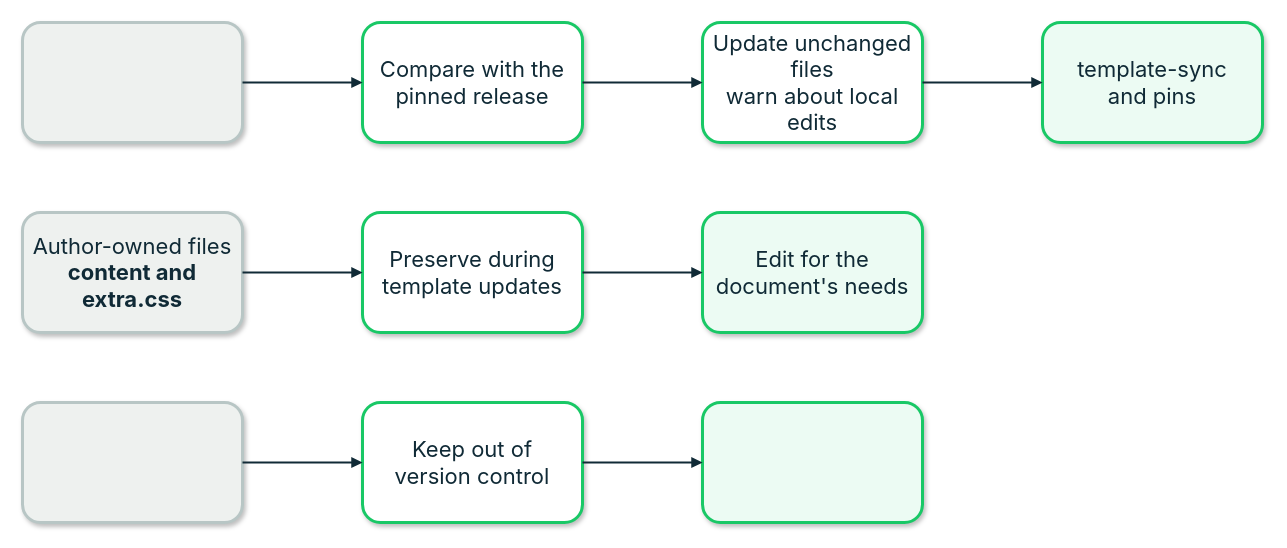
This 1287x548 diagram has some shape labels left out. The shapes that lost their labels are listed below. From the top down, each one's centre as x and y in pixels, then its label:
(133,83): Managed shared files pdk.css and tooling
(133,463): Generated/local files site and environments
(813,463): Recreate from source when required
